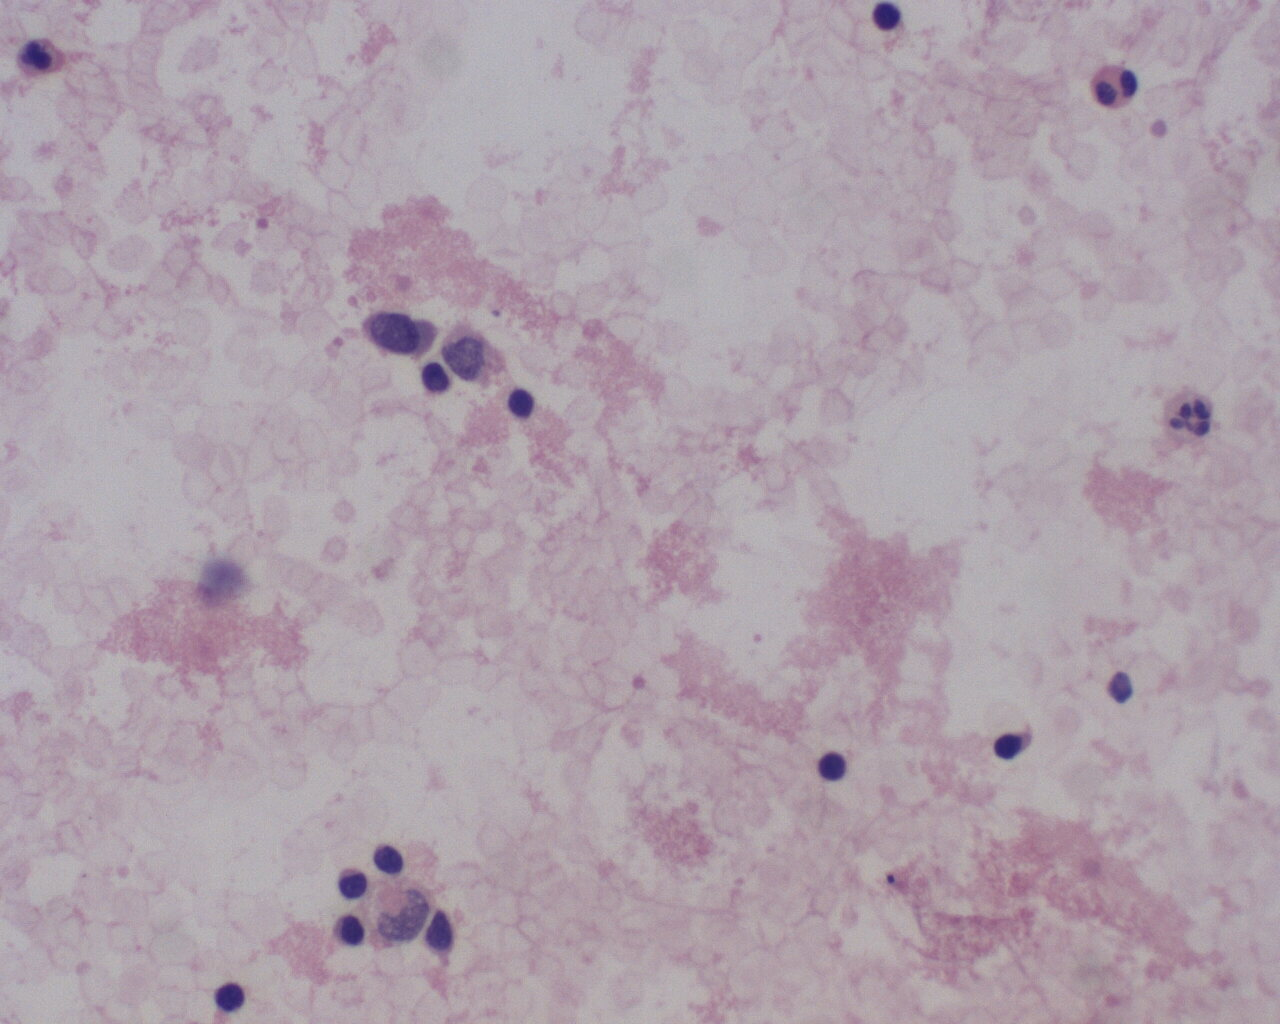lymph: (990, 723, 1031, 765), (209, 974, 250, 1013), (336, 860, 372, 903), (502, 385, 541, 422), (333, 905, 366, 950), (815, 746, 851, 786), (863, 1, 905, 34)
neutro: (1159, 385, 1215, 443)
